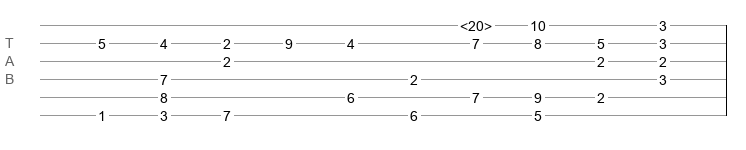1: (98, 108, 106, 118)
10: (530, 18, 546, 28)
2: (223, 36, 231, 46), (223, 54, 231, 64), (410, 72, 418, 82), (597, 54, 605, 64), (597, 90, 605, 100), (659, 54, 667, 64)
3: (160, 108, 168, 118), (659, 36, 667, 46), (659, 72, 667, 82), (659, 18, 667, 28)
4: (160, 36, 168, 46), (347, 36, 355, 46)
5: (98, 36, 106, 46), (534, 108, 542, 118), (597, 36, 605, 46)
6: (347, 90, 355, 100), (410, 108, 418, 118)
7: (160, 72, 168, 82), (223, 108, 231, 118), (472, 36, 480, 46), (472, 90, 480, 100)
8: (160, 90, 168, 100), (534, 36, 542, 46)
9: (285, 36, 293, 46), (534, 90, 542, 100)
harmonic: (460, 18, 492, 28)
